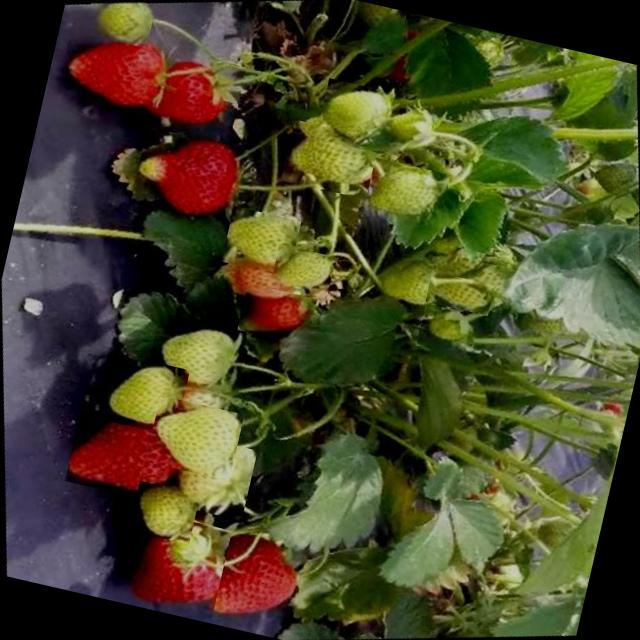ripe: (101, 506, 232, 624), (65, 392, 196, 507), (186, 516, 310, 635), (128, 126, 249, 235), (54, 21, 177, 128), (129, 44, 246, 143), (236, 282, 317, 350)
unripe: (143, 312, 252, 408), (145, 394, 244, 480), (162, 432, 258, 520), (92, 350, 190, 436), (280, 119, 380, 199), (358, 156, 450, 232), (315, 78, 404, 156), (426, 242, 502, 316), (220, 206, 300, 276), (128, 472, 202, 544), (374, 254, 443, 316), (270, 244, 336, 300), (416, 304, 481, 358), (373, 100, 435, 156), (83, 0, 155, 48), (337, 0, 406, 35)
